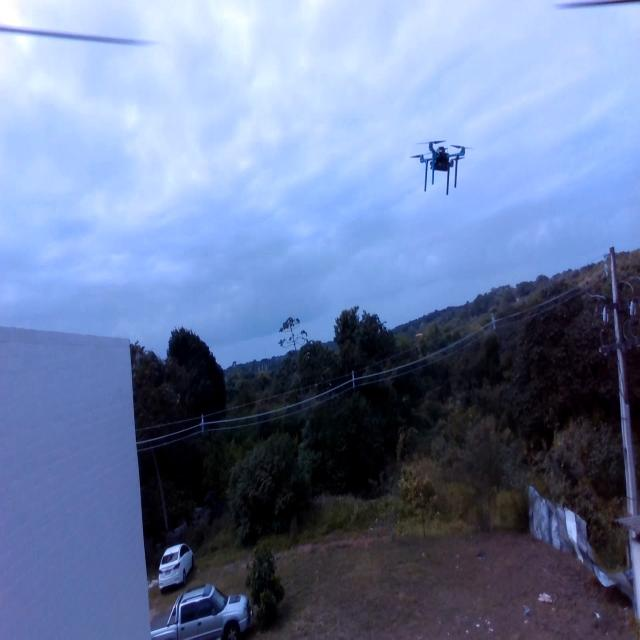-uav-: (408, 111, 477, 216)
